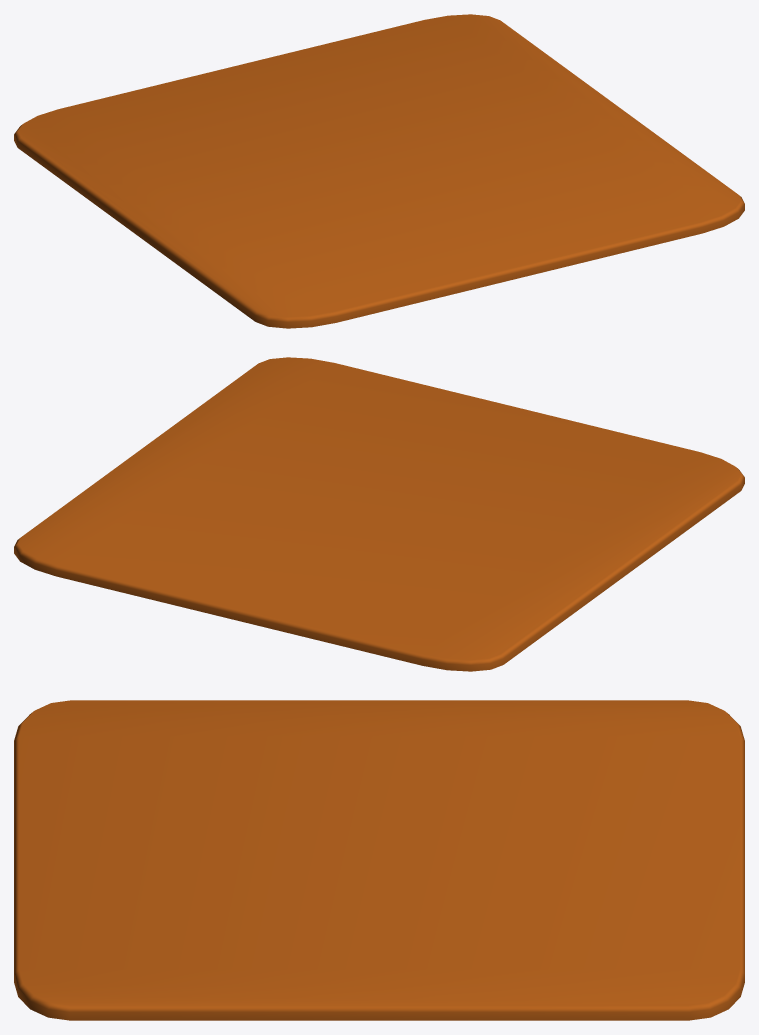
The picture shows the model from 3 angles, top to bottom: view 1: azimuth 30°, elevation 25°; view 2: azimuth 150°, elevation 25°; view 3: azimuth 270°, elevation 25°; orthographic projection. The views are drawn at different scales.
Visible parts, largest first — view 1: Plane.001; view 2: Plane.001; view 3: Plane.001.
Boxes of the visible parts, left/top/right/bottom form: Plane.001: left=14, top=14, right=744, bottom=328; Plane.001: left=14, top=357, right=744, bottom=671; Plane.001: left=14, top=700, right=744, bottom=1020.
Bounding box in the file's own units: 290 × 289 × 5.63.
